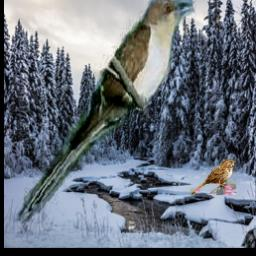Cuckoo: (14, 0, 196, 231)
Sparrow: (189, 158, 236, 196)
